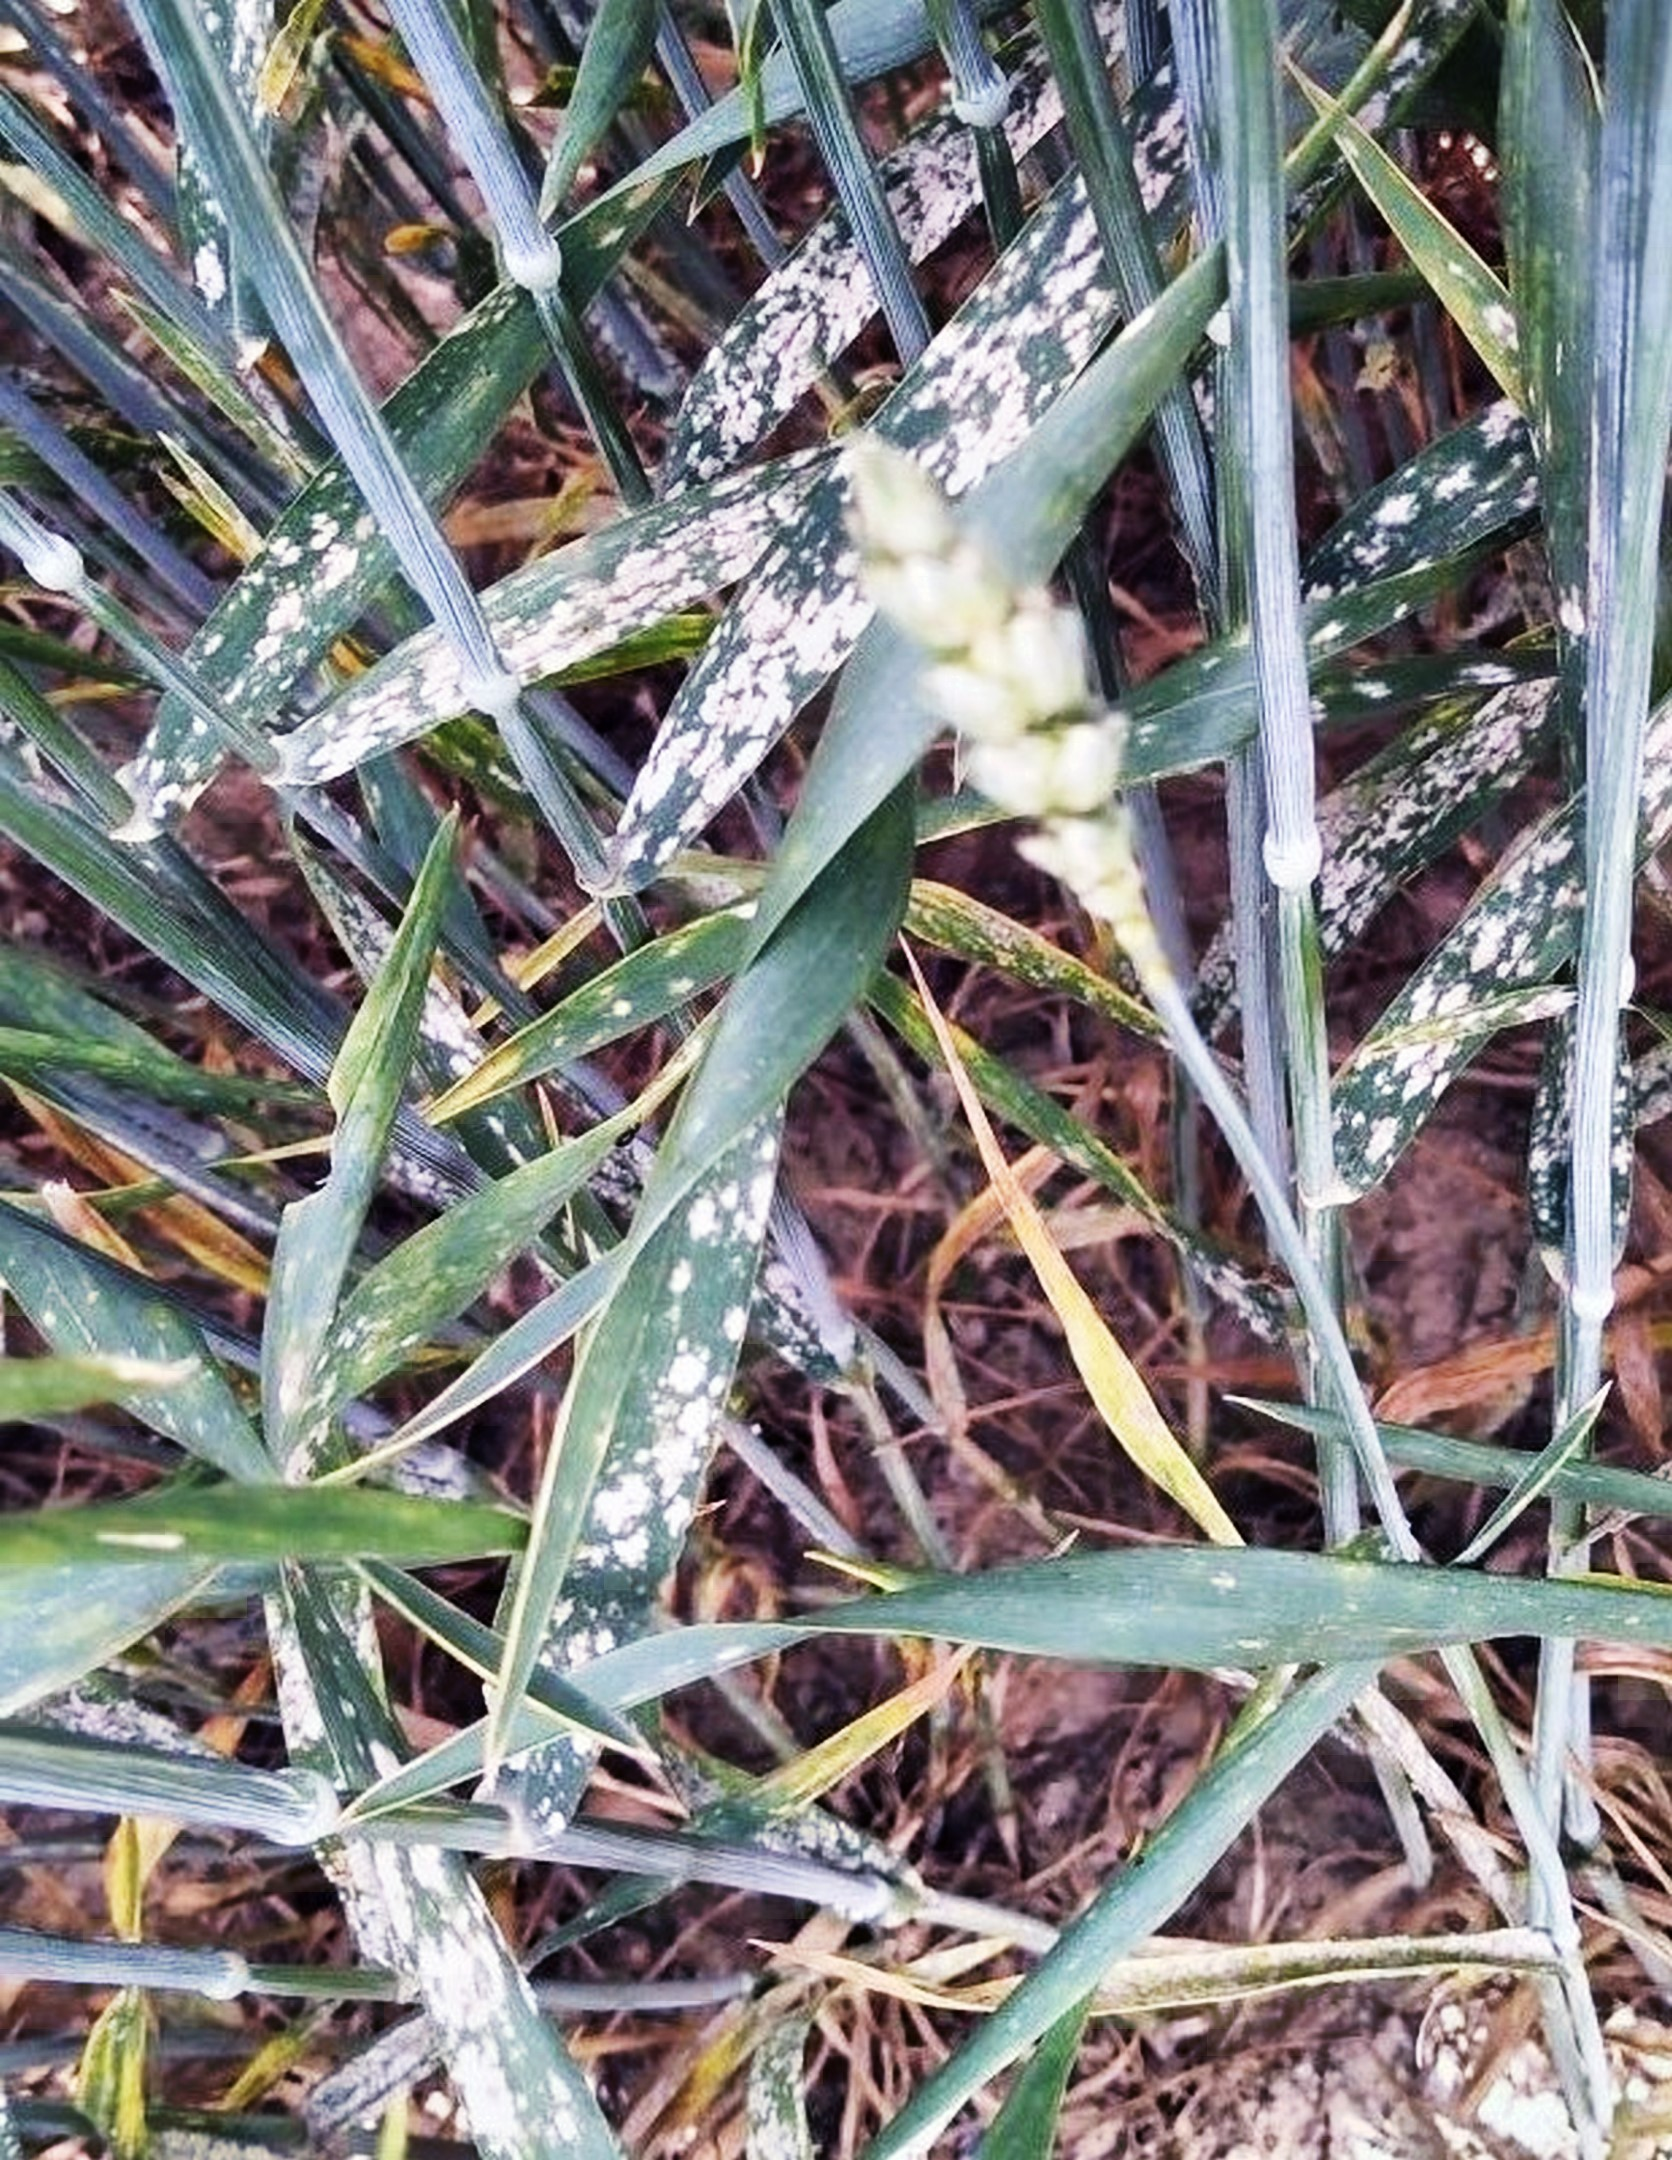Powdery Mildew: (480, 188, 1118, 775), (1292, 605, 1614, 1187), (554, 1175, 804, 1664)
